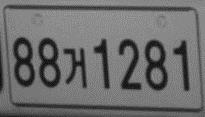1: (172, 39, 190, 92), (92, 37, 110, 89)
2: (117, 37, 142, 90)
8: (143, 38, 169, 91), (11, 36, 35, 86), (37, 36, 60, 88)
거: (62, 47, 87, 89)
